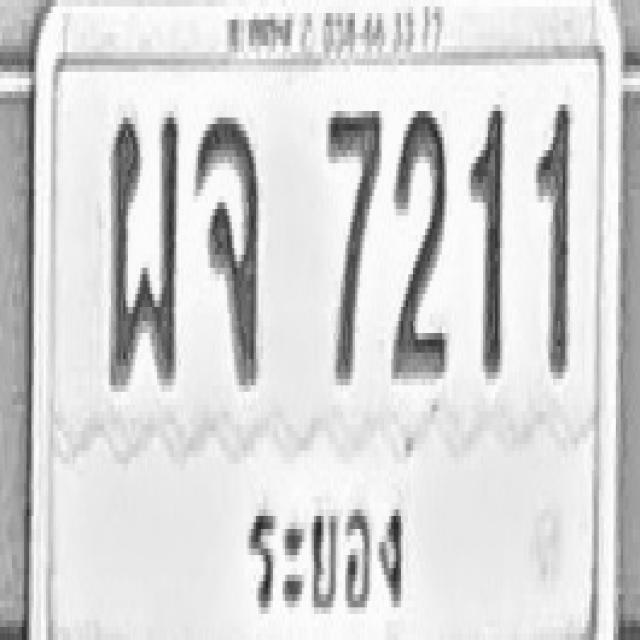1: (534, 94, 570, 376), (468, 98, 503, 372)
17ChorChan: (194, 108, 258, 382)
2: (390, 101, 448, 376)
37PhorPhueng: (108, 104, 178, 386)
7: (326, 101, 382, 382)
Rayong: (238, 477, 410, 632)
